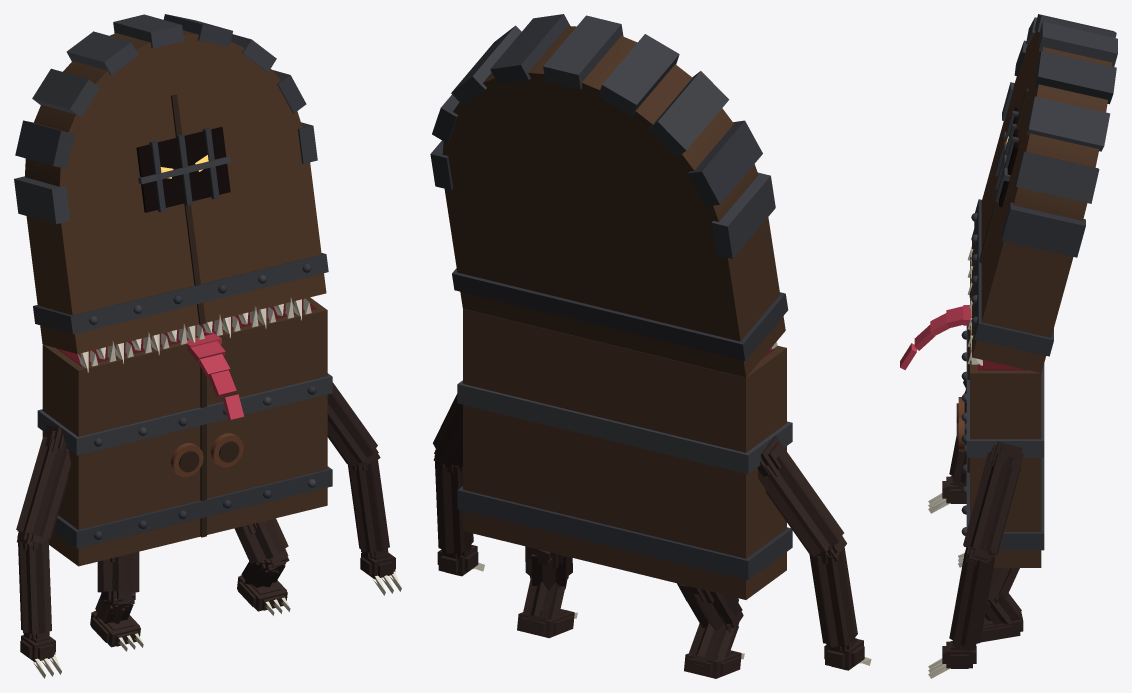
The picture shows the model from 3 angles, left to right: view 1: azimuth 30°, elevation 25°; view 2: azimuth 150°, elevation 25°; view 3: azimuth 270°, elevation 25°; orthographic projection. The views are drawn at different scales.
Visible parts, largest first — view 1: DoorMimic; view 2: DoorMimic; view 3: DoorMimic.
Part boxes in pixels (bbox=[...]): DoorMimic: bbox=[14, 14, 401, 678]; DoorMimic: bbox=[430, 14, 871, 678]; DoorMimic: bbox=[900, 14, 1117, 678].
Bounding box in the file's own units: 2.31 × 3.45 × 1.19.
